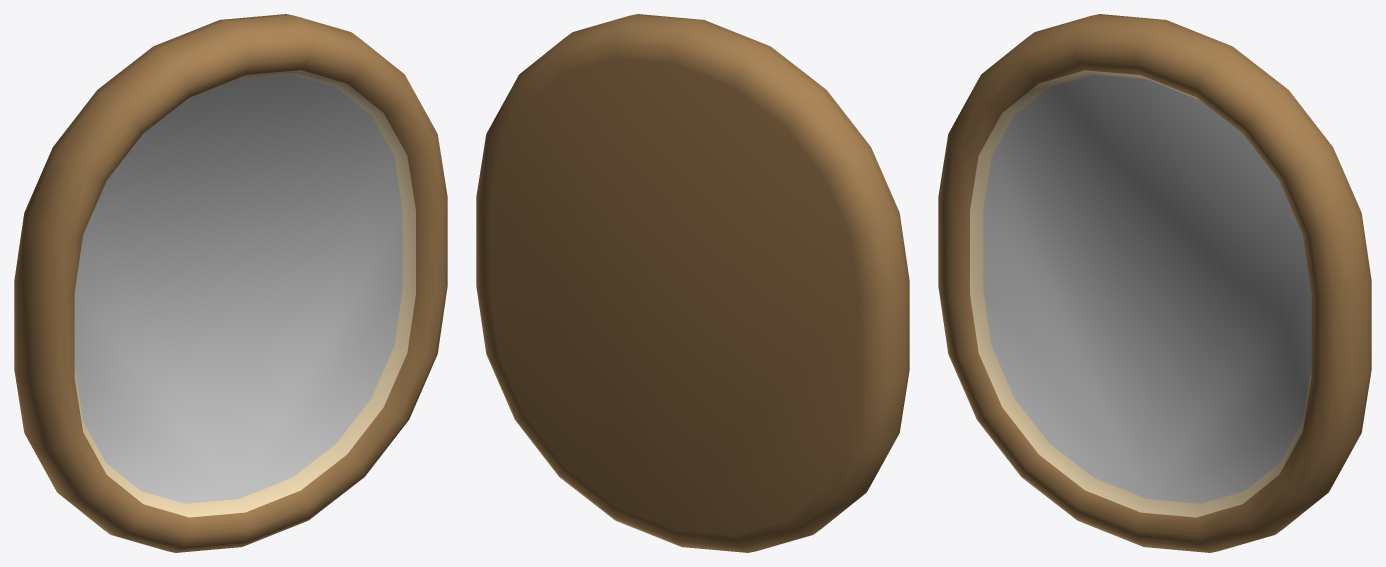
The model's file is Mirror_1C.fbx.
3 views of the same model, side by side, from view 1: azimuth 30°, elevation 25°; view 2: azimuth 150°, elevation 25°; view 3: azimuth 330°, elevation 25° (orthographic).
Visible parts, largest first — view 1: Mirror_1C; view 2: Mirror_1C; view 3: Mirror_1C.
Part boxes in pixels (x1,y1,x2,y2): Mirror_1C: (14, 14, 447, 552); Mirror_1C: (476, 14, 909, 552); Mirror_1C: (938, 14, 1371, 552).
Size of the model in its own units: 0.517 by 0.6128 by 0.0786.
